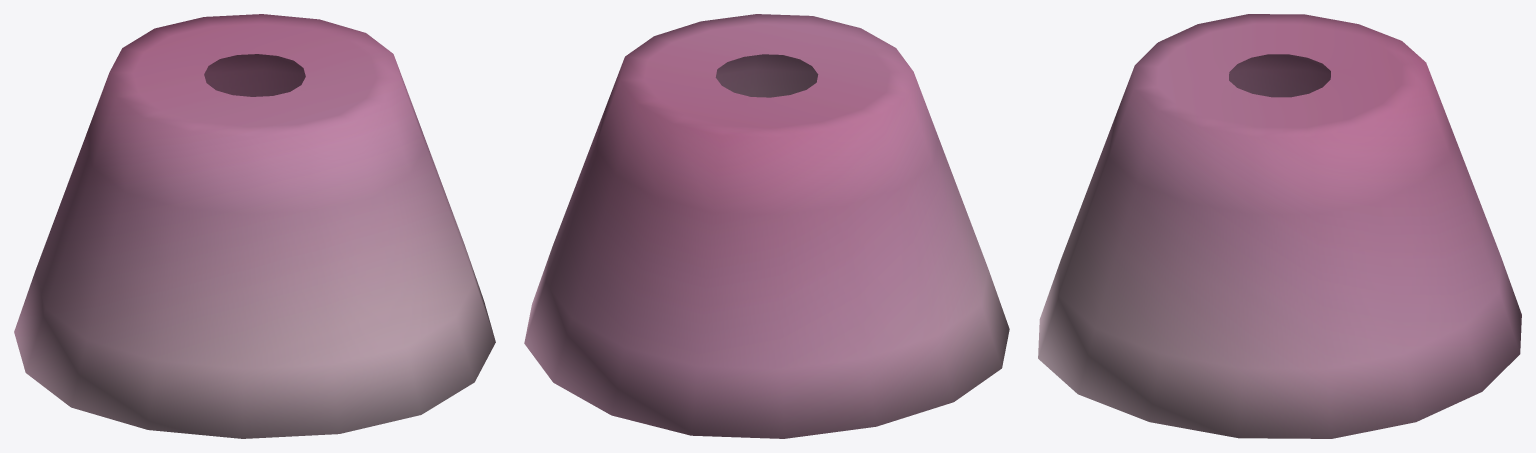
Rendered from FBX_Lamp.fbx.
3 views of the same model, side by side, from view 1: azimuth 30°, elevation 25°; view 2: azimuth 150°, elevation 25°; view 3: azimuth 270°, elevation 25° (orthographic).
Visible parts, largest first — view 1: Lamp_geo; view 2: Lamp_geo; view 3: Lamp_geo.
Part boxes in pixels (left/top/right/bottom): Lamp_geo: left=14, top=14, right=495, bottom=438; Lamp_geo: left=524, top=14, right=1009, bottom=438; Lamp_geo: left=1038, top=14, right=1521, bottom=438.
Size of the model in its own units: 62.39 by 37.91 by 62.39.
Materials: 1 (1 with a texture image).
